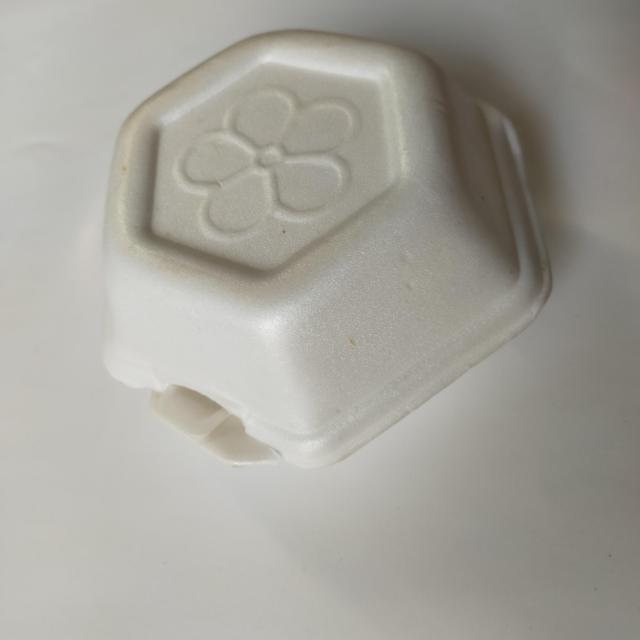styrofoam: (99, 27, 554, 470)
